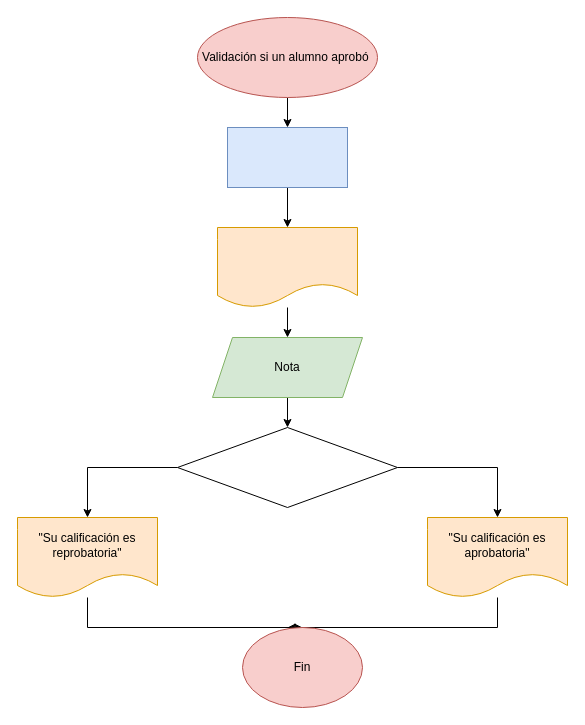
Some shapes in this 585 by 725 pixel diagram are drawn without their labels. The centre of each missing label's shape, as x and y in pixels:
"Ingrese su calificación": (x=287, y=267)
Float Nota: (x=287, y=157)
Nota > 6: (x=287, y=467)
